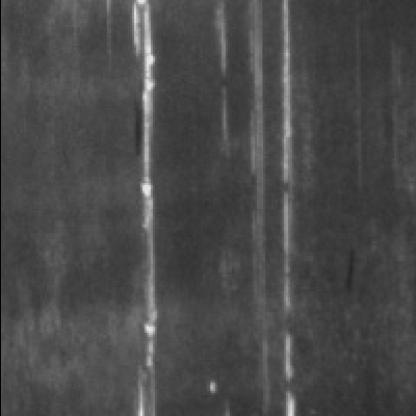scratches: (239, 0, 293, 410), (120, 0, 158, 410)
